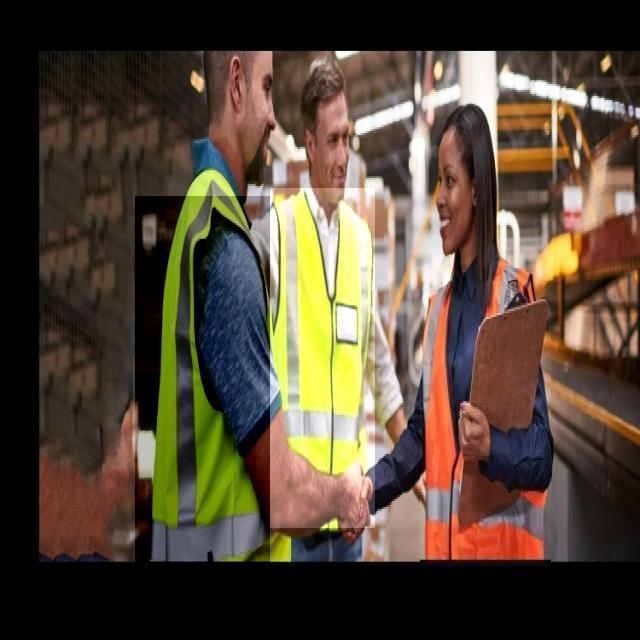Person: (107, 48, 282, 566), (416, 98, 571, 567), (283, 48, 409, 575)
Safety Vest: (135, 196, 270, 580), (420, 282, 551, 568), (270, 188, 375, 528)
bare-arms: (327, 447, 382, 545), (448, 396, 496, 458)
no-helmet: (433, 104, 507, 158), (296, 62, 353, 112)
